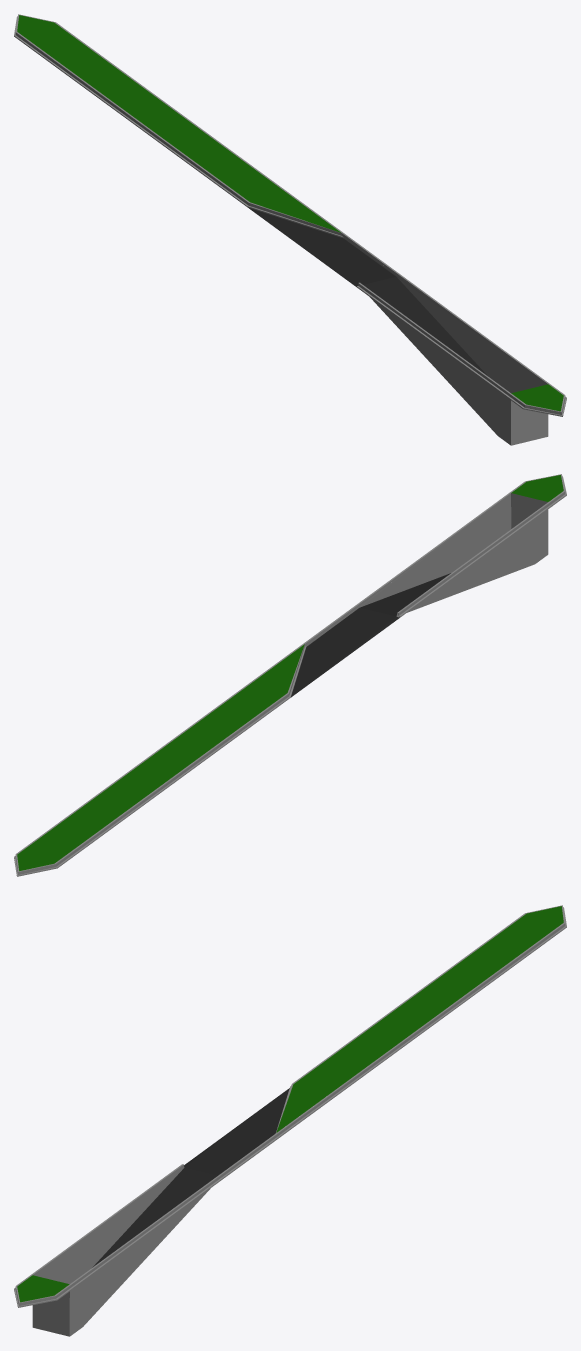
The model's file is Namiki.Median.South.fbx.
The picture shows the model from 3 angles, top to bottom: view 1: azimuth 30°, elevation 25°; view 2: azimuth 150°, elevation 25°; view 3: azimuth 330°, elevation 25°; orthographic projection.
Visible parts, largest first — view 1: Namiki.Median.South; view 2: Namiki.Median.South; view 3: Namiki.Median.South.
Boxes of the visible parts, x1,y1,x2,y2 form: Namiki.Median.South: (14,14,566,445); Namiki.Median.South: (14,474,566,876); Namiki.Median.South: (14,905,566,1336).
Bounding box in the file's own units: 6500 × 300 × 345.
